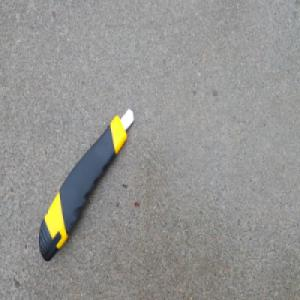Cutter: (38, 107, 135, 264)
